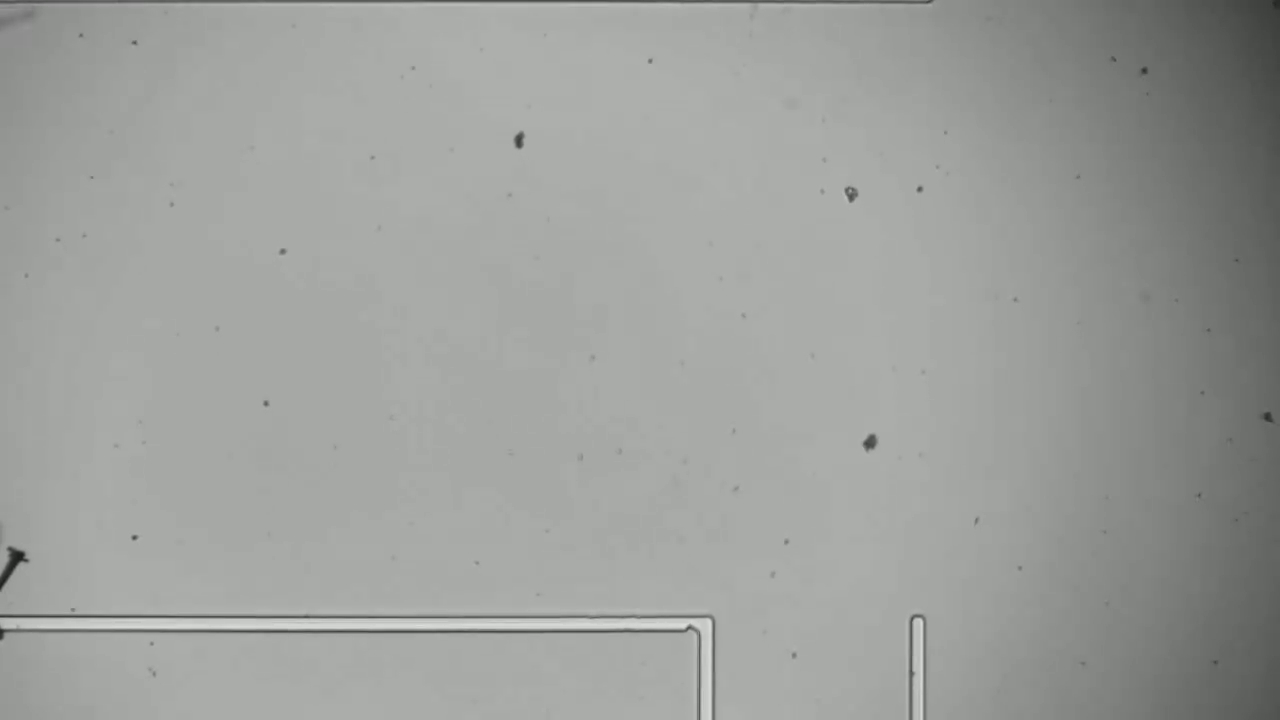edge_bite: (675, 606, 706, 636)
